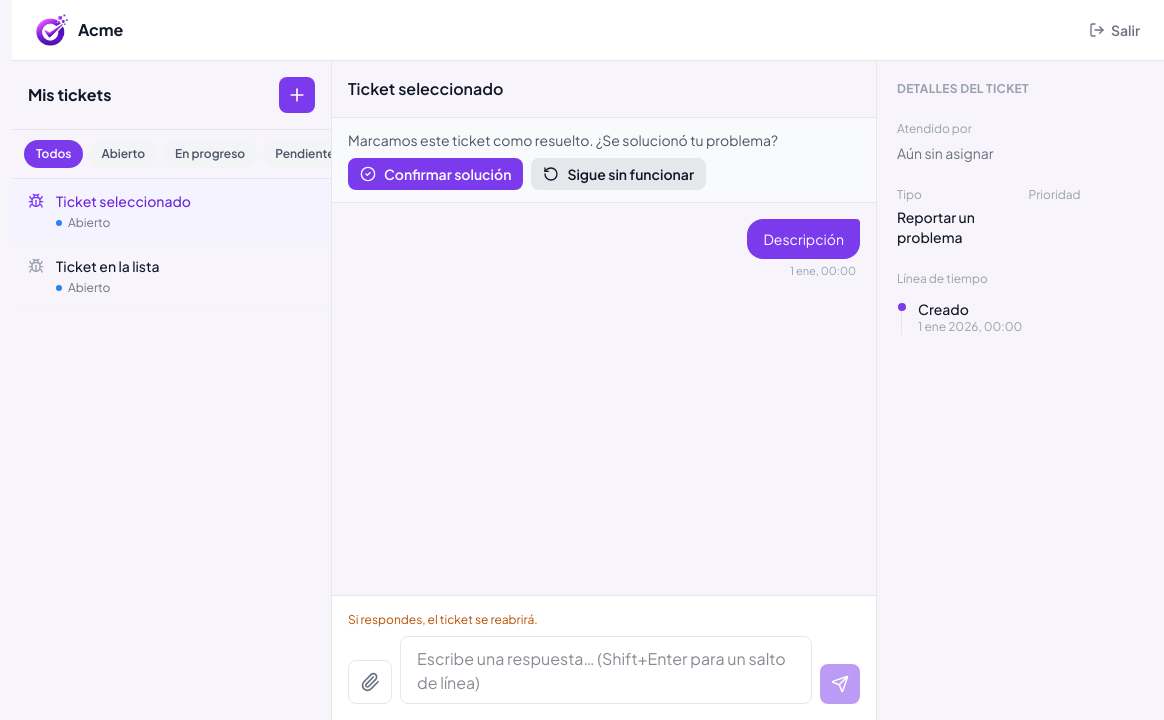
Scenario: PortalInboxScreen detalle del ticket › confirmar la solución actualiza el hilo y la fila
Click the button "Confirmar solución".
click(436, 174)  # box [348,158,523,190]
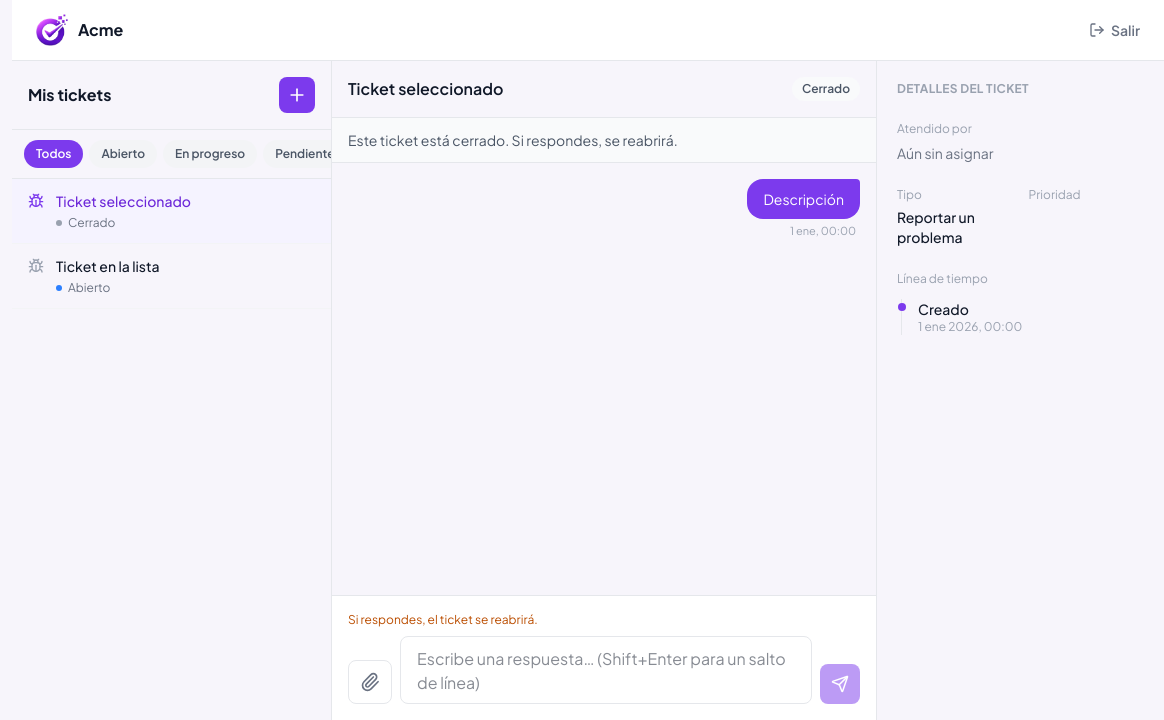
expect the text "Este ticket está cerrado. Si respondes, se reabrirá." is shown: met, box [348,131,678,149]
expect the button "Confirmar solución" is gone: met
